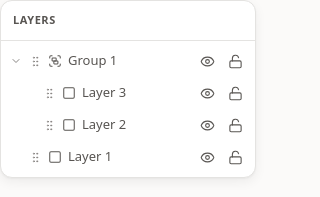
the tree › reports a member as locked by its group
The width and height of the screenshot is (320, 197).
Click the button named "Lock Group 1".
click(235, 61)  # box left=221, top=47, right=249, bottom=75
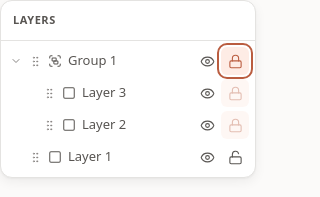
expect the button named "locked by its group" is disabled: met, box left=221, top=79, right=249, bottom=107
